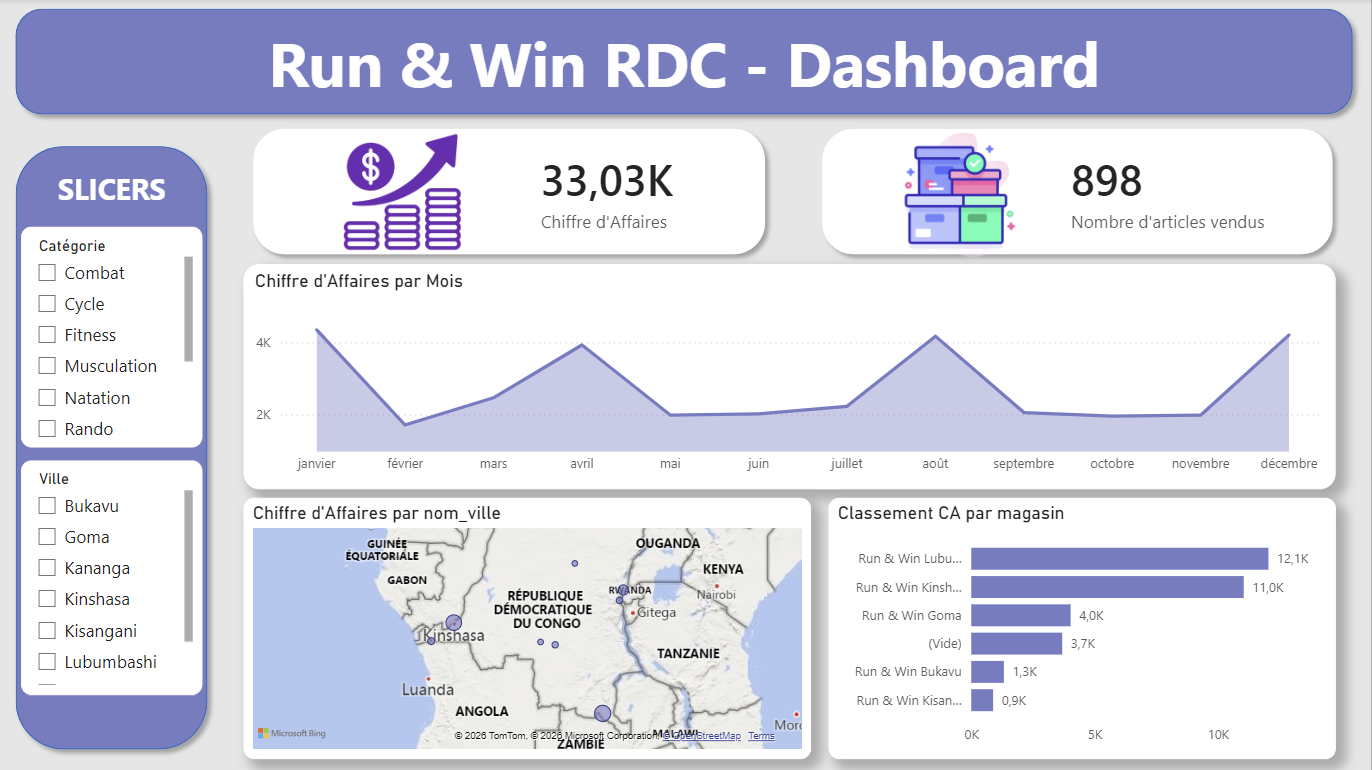

Layout of this report page (visuals, bound fields, positions):
{"tool":"powerbi","page":{"name":"Page 1","canvas":[1280,720],"ordinal":0},"visuals":[{"type":"shape","title":" ","box":[9.6,127.6,196.2,579.1],"z":0},{"type":"shape","box":[9.3,0,1261.6,116.3],"z":1000},{"type":"shape","box":[230.2,111.6,494.2,134.9],"z":2000,"group":"g1"},{"type":"shape","box":[759.3,111.6,493,134.9],"z":2000,"group":"g2"},{"type":"lineChart","fields":{"Category":["public ventes.date_vente.Variation.Hiérarchie de dates.Mois"],"Y":["public ventes.Chiffre d'Affaires"]},"box":[230.2,246.5,1016.3,209.3],"z":3000},{"type":"map","fields":{"Category":["public villes.nom_ville"],"Size":["public villes.Chiffre d'Affaires"]},"box":[230.5,463.8,528.3,242.9],"z":4000},{"type":"clusteredBarChart","title":"Classement CA par magasin","fields":{"Category":["public magasins.nom_magasin"],"Y":["public villes.Chiffre d'Affaires"]},"box":[773.9,463.8,472,242.9],"z":5000},{"type":"cardVisual","fields":{"Data":["public ventes.total_articles_vendus"]},"box":[970.9,124.4,247.7,109.3],"z":6000,"group":"g2"},{"type":"slicer","fields":{"Values":["public categories.nom_categorie"]},"box":[23.3,211.3,168.8,205.8],"z":7000},{"type":"cardVisual","fields":{"Data":["public ventes.Chiffre d'Affaires"]},"box":[477.9,124.4,189.5,109.3],"z":8000,"group":"g1"},{"type":"slicer","fields":{"Values":["public villes.nom_ville"]},"box":[23.3,429.5,168.8,218.2],"z":8000},{"type":"textbox","box":[23.3,153.7,168.8,45.3],"z":9000},{"type":"image","box":[829.1,124.4,133.7,116.3],"z":10000,"group":"g2"},{"type":"image","box":[313.6,124.8,127.9,109.3],"z":10002,"group":"g1"},{"type":"group","id":"g1","title":"Groupe 1","box":[230.2,111.6,494.2,134.9],"z":11000},{"type":"group","id":"g2","title":"Groupe 2","box":[759.3,111.6,493,134.9],"z":11001}]}

Visuals, with their boxes in screenshot pixels (x1, y1, x2, y2), scaled from the page's 1280x720 canvas onto the 1372x770 screenshot:
" " shape: locate(10, 136, 221, 756)
shape: locate(10, 0, 1362, 124)
shape: locate(247, 119, 776, 264)
shape: locate(814, 119, 1342, 264)
lineChart - public ventes.date_vente.Variation.Hiérarchie de dates.Mois x public ventes.Chiffre d'Affaires: locate(247, 264, 1336, 487)
map - public villes.nom_ville x public villes.Chiffre d'Affaires: locate(247, 496, 813, 756)
"Classement CA par magasin" clusteredBarChart: locate(830, 496, 1335, 756)
cardVisual - public ventes.total_articles_vendus: locate(1041, 133, 1306, 250)
slicer - public categories.nom_categorie: locate(25, 226, 206, 446)
cardVisual - public ventes.Chiffre d'Affaires: locate(512, 133, 715, 250)
slicer - public villes.nom_ville: locate(25, 459, 206, 693)
textbox: locate(25, 164, 206, 213)
image: locate(889, 133, 1032, 257)
image: locate(336, 133, 473, 250)
"Groupe 1" group: locate(247, 119, 776, 264)
"Groupe 2" group: locate(814, 119, 1342, 264)
